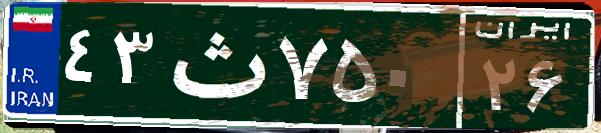0: (385, 28, 445, 110)
2: (475, 38, 525, 113)
3: (110, 28, 158, 105)
4: (57, 26, 110, 107)
5: (330, 28, 385, 110)
6: (525, 38, 570, 115)
7: (273, 28, 330, 110)
ث: (158, 15, 273, 115)
